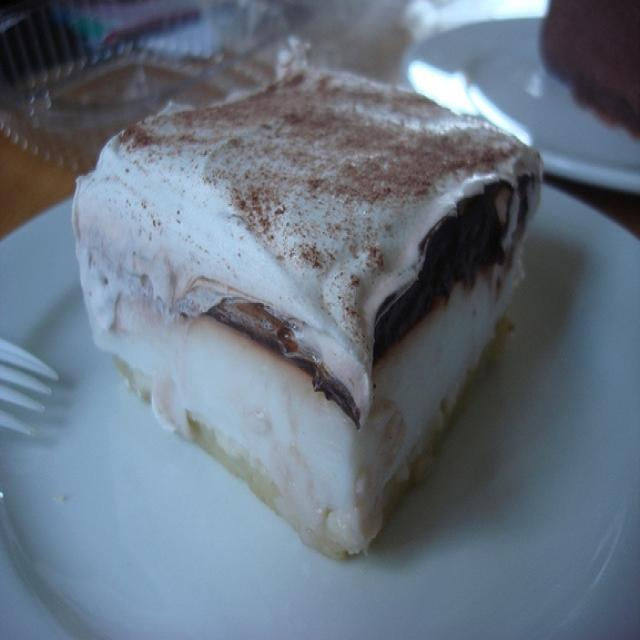蛋糕甜品: (70, 41, 559, 562)
